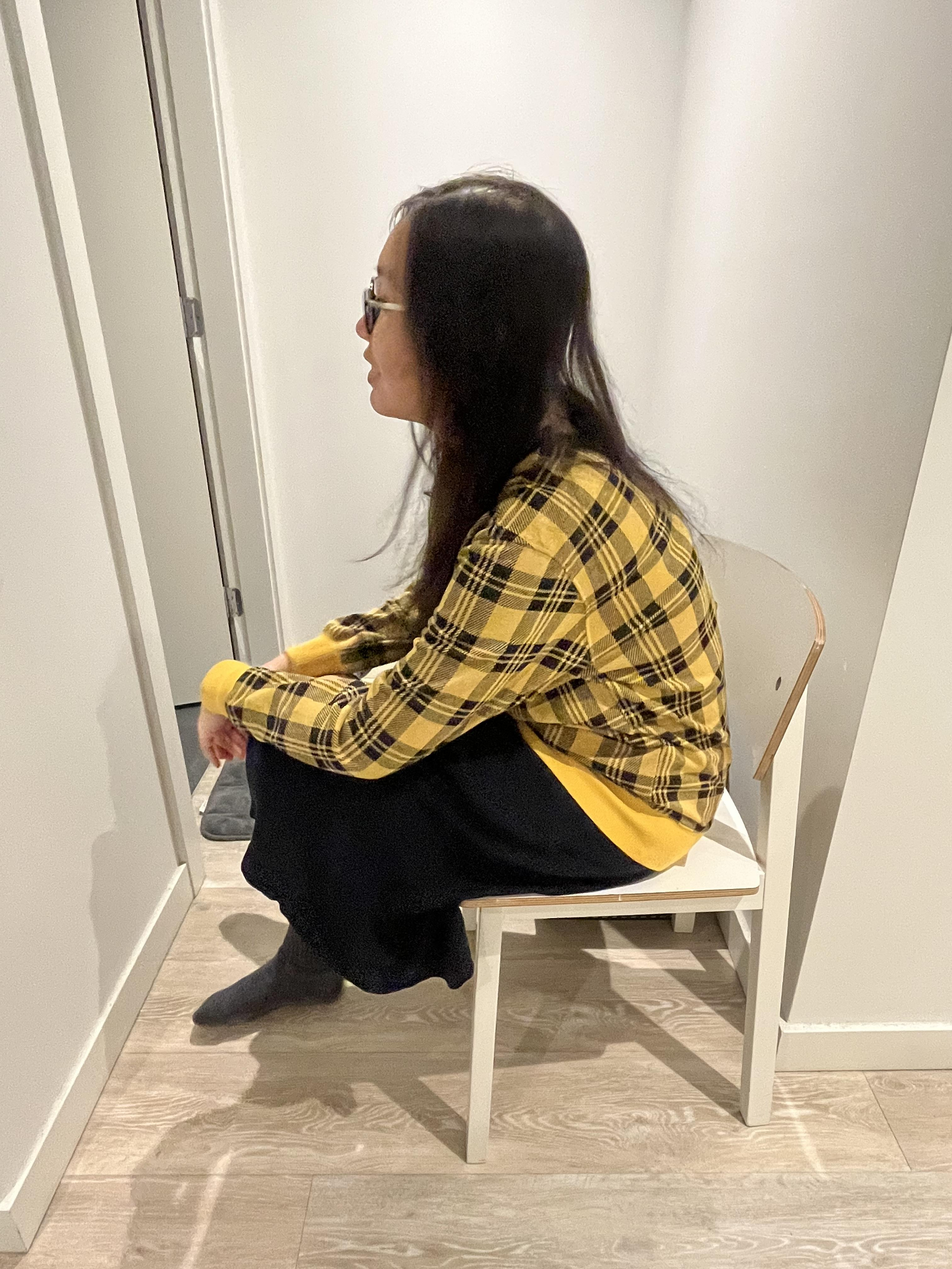BadPosture: (191, 170, 728, 1017)
